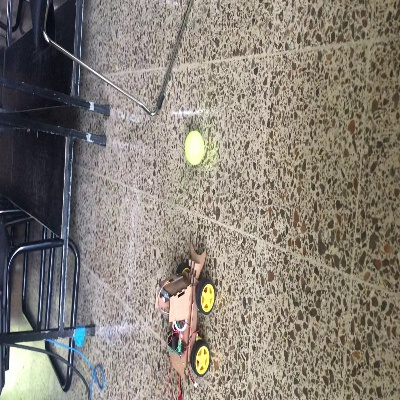Ball: (184, 131, 204, 165)
Robot: (155, 241, 215, 377)
